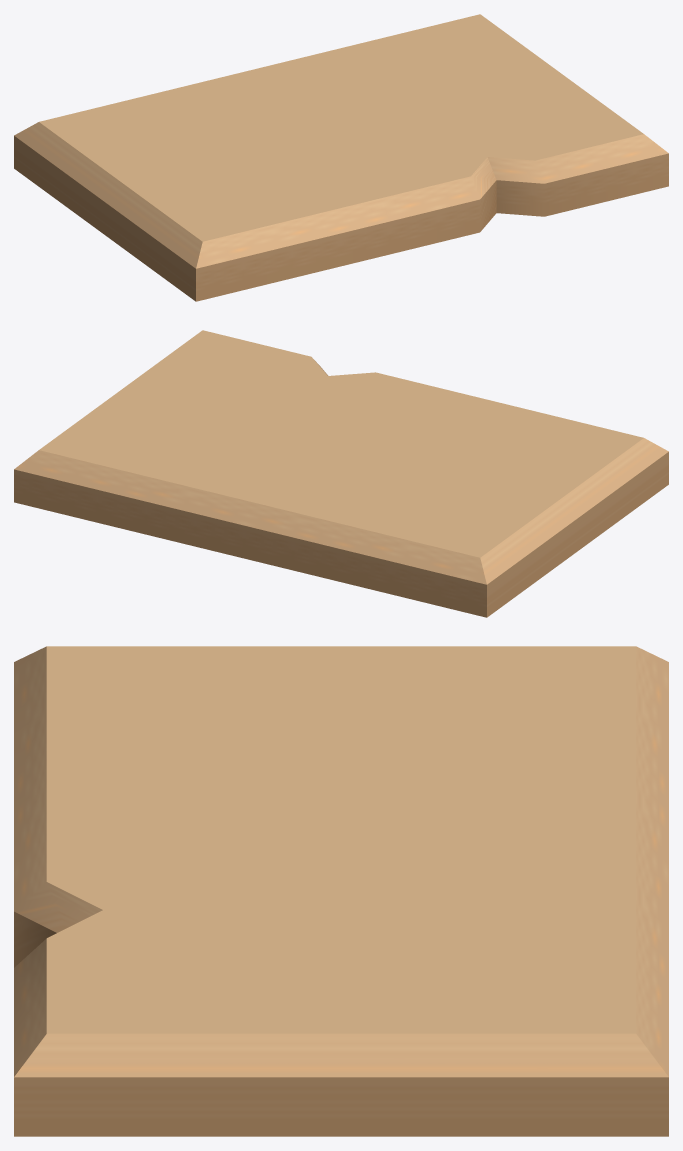
File: cuttingboard.gltf
3 renders of one model, top to bottom at view 1: azimuth 30°, elevation 25°; view 2: azimuth 150°, elevation 25°; view 3: azimuth 270°, elevation 25°, orthographic. The views are drawn at different scales.
Parts seen in each view (by area): view 1: cuttingboard; view 2: cuttingboard; view 3: cuttingboard.
Part boxes in pixels (<box>): cuttingboard: <box>14,14,668,301</box>; cuttingboard: <box>14,330,668,617</box>; cuttingboard: <box>14,646,668,1136</box>.
Bounding box in the file's own units: 1.5 × 0.15 × 1.
1 material, 1 textured.
